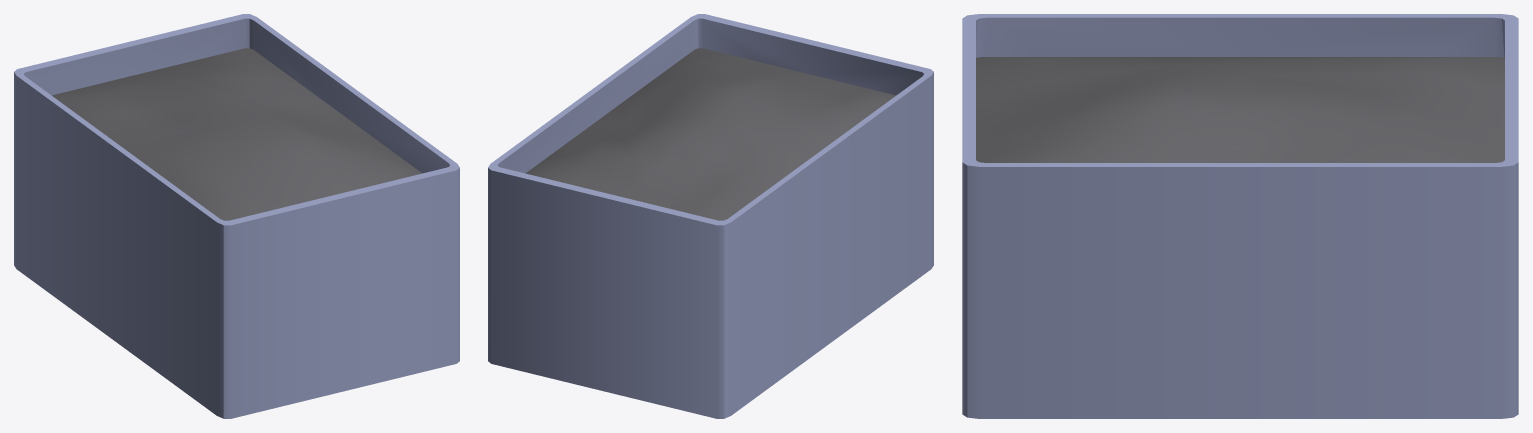
File: cove-fish-crate.lod0.glb
The picture shows the model from 3 angles, left to right: view 1: azimuth 30°, elevation 25°; view 2: azimuth 150°, elevation 25°; view 3: azimuth 270°, elevation 25°; orthographic projection. The views are drawn at different scales.
Parts seen in each view (by area): view 1: M_FishCrate_Mat_PileoFish_0; view 2: M_FishCrate_Mat_PileoFish_0; view 3: M_FishCrate_Mat_PileoFish_0.
Part boxes in pixels (<box>): M_FishCrate_Mat_PileoFish_0: <box>14,14,459,418</box>; M_FishCrate_Mat_PileoFish_0: <box>488,14,933,418</box>; M_FishCrate_Mat_PileoFish_0: <box>962,14,1518,418</box>.
Bounding box in the file's own units: 0.52 × 0.4062 × 0.8.
